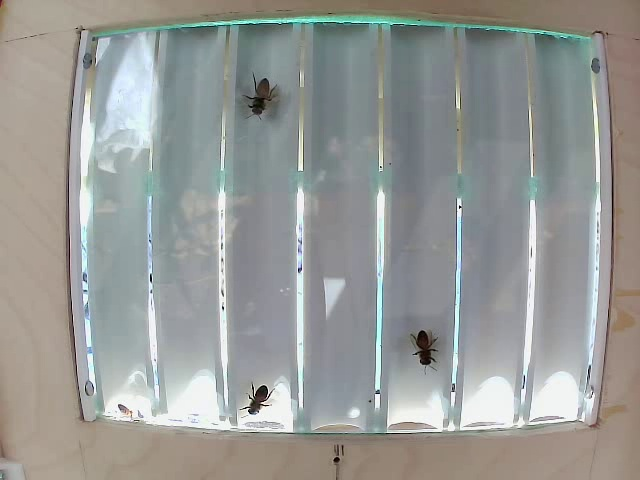bee: (242, 69, 280, 130), (401, 322, 447, 368)
